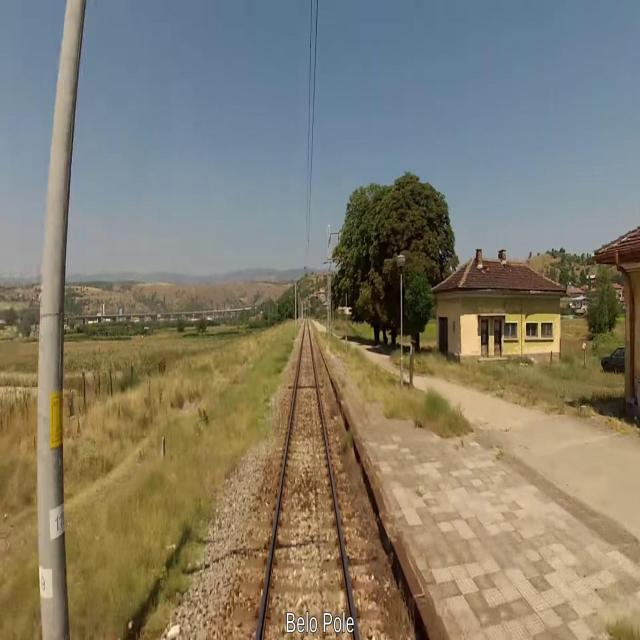rail-track: (260, 324, 354, 639)
